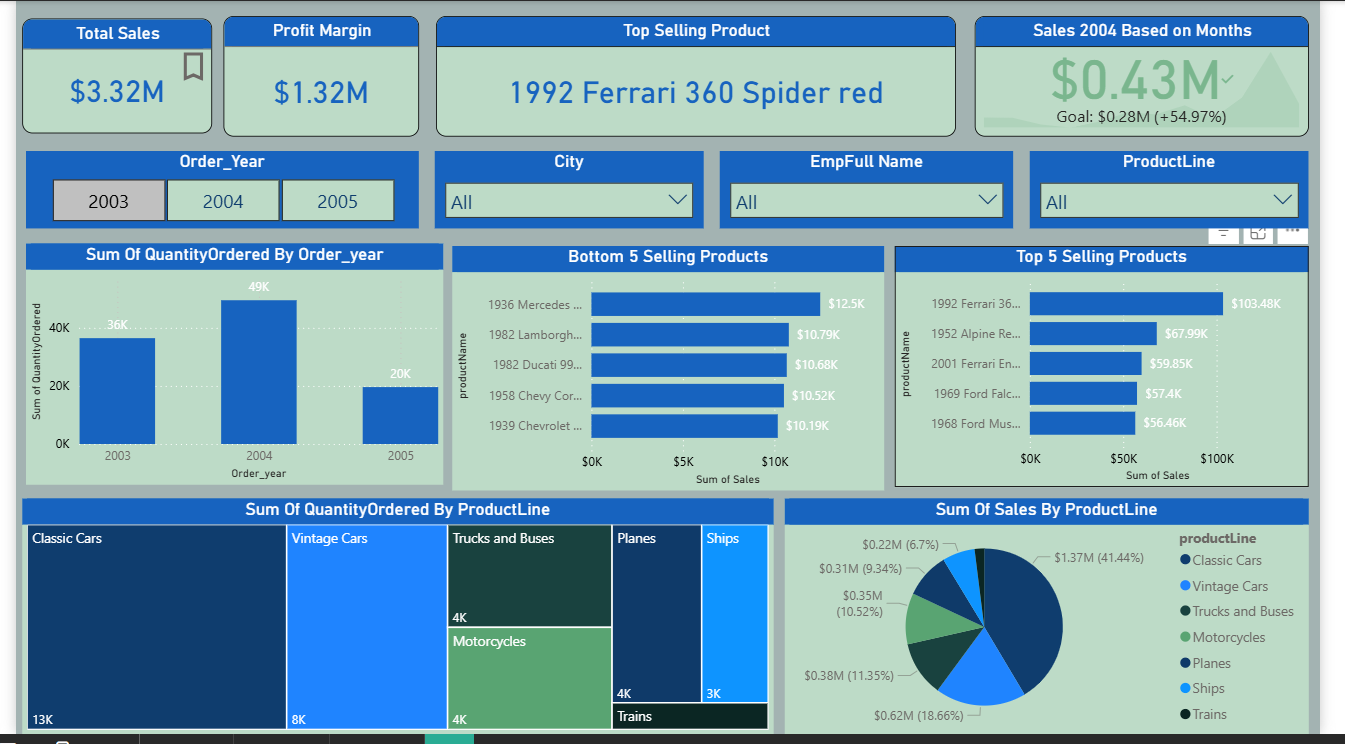

The dashboard page shown, as its layout file describes it:
{"tool":"powerbi","page":{"name":"Page 1","canvas":[1280,720],"ordinal":0},"visuals":[{"type":"card","title":"Profit Margin","fields":{"Values":["order details.total_profit"]},"box":[203.1,15.1,192.1,118],"z":0},{"type":"card","title":"Top Selling Product","fields":{"Values":["order details.MostOrderedProduct"]},"box":[411.7,15.1,510.5,118],"z":1000},{"type":"barChart","title":"Top 5 Selling Products","fields":{"Category":["product.productName"],"Y":["order details.sales"]},"box":[862.6,240.5,406.1,236.8],"z":2000},{"type":"pieChart","title":"Sum Of Sales By ProductLine","fields":{"Category":["product.productLine"],"Y":["order details.sales"]},"box":[754.6,488.3,514.1,231.9],"z":3000},{"type":"slicer","title":"Order_Year","fields":{"Values":["orders.order_year"]},"box":[9.8,147.2,385.3,76.1],"z":4000},{"type":"kpi","title":"Sales 2004 Based on  Months  ","fields":{"Goal":["orders.sales_2003"],"TrendLine":["orders.Month Name"],"Indicator":["orders.sales_2004"]},"box":[941.3,15.1,328,118],"z":5000},{"type":"treemap","title":"Sum Of QuantityOrdered By ProductLine","fields":{"Group":["product.productLine"],"Values":["order details.quantityOrdered"]},"box":[6.1,488.3,737.4,231.9],"z":6000},{"type":"columnChart","title":"Sum Of QuantityOrdered By Order_year","fields":{"Category":["orders.order_year"],"Y":["order details.quantityOrdered"]},"box":[9.8,238,409.8,236.8],"z":7000},{"type":"card","title":"Total Sales","fields":{"Values":["order details.sales"]},"box":[6.1,17.2,186.5,112.9],"z":8000},{"type":"slicer","title":"City","fields":{"Values":["offices.city"]},"box":[411,147.2,263.8,76.1],"z":9000},{"type":"slicer","title":"EmpFull Name","fields":{"Values":["employees.Full Name"]},"box":[690.8,147.2,288.3,76.1],"z":10000},{"type":"slicer","title":"ProductLine","fields":{"Values":["productlines.productLine"]},"box":[995.1,147.2,273.6,76.1],"z":11000},{"type":"barChart","title":"Bottom 5 Selling Products","fields":{"Category":["product.productName"],"Y":["order details.sales"]},"box":[428.1,240.1,424,240.1],"z":12000},{"type":"actionButton","box":[155.8,44.2,36.8,40.5],"z":13000}]}

Visuals, with their boxes in screenshot pixels (x1, y1, x2, y2), scaled from the page's 1280x720 canvas onto the 1345x744 screenshot:
"Profit Margin" card: (213, 16, 415, 138)
"Top Selling Product" card: (433, 16, 969, 138)
"Top 5 Selling Products" barChart: (906, 249, 1333, 493)
"Sum Of Sales By ProductLine" pieChart: (793, 505, 1333, 743)
"Order_Year" slicer: (10, 152, 415, 231)
"Sales 2004 Based on  Months  " kpi: (989, 16, 1334, 138)
"Sum Of QuantityOrdered By ProductLine" treemap: (6, 505, 781, 743)
"Sum Of QuantityOrdered By Order_year" columnChart: (10, 246, 441, 491)
"Total Sales" card: (6, 18, 202, 134)
"City" slicer: (432, 152, 709, 231)
"EmpFull Name" slicer: (726, 152, 1029, 231)
"ProductLine" slicer: (1046, 152, 1333, 231)
"Bottom 5 Selling Products" barChart: (450, 248, 895, 496)
actionButton: (164, 46, 202, 88)
